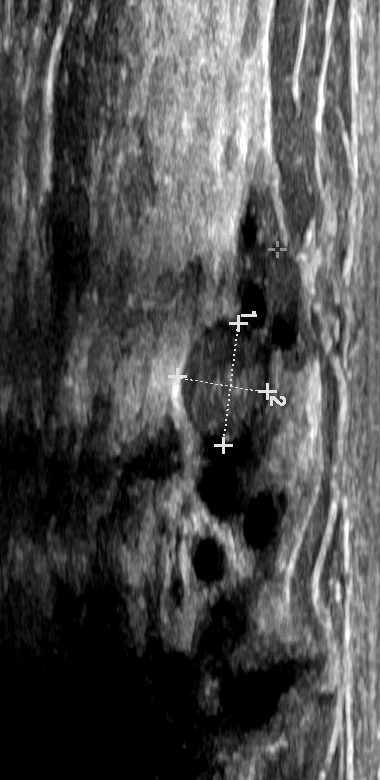Benign: (177, 323, 283, 444)
